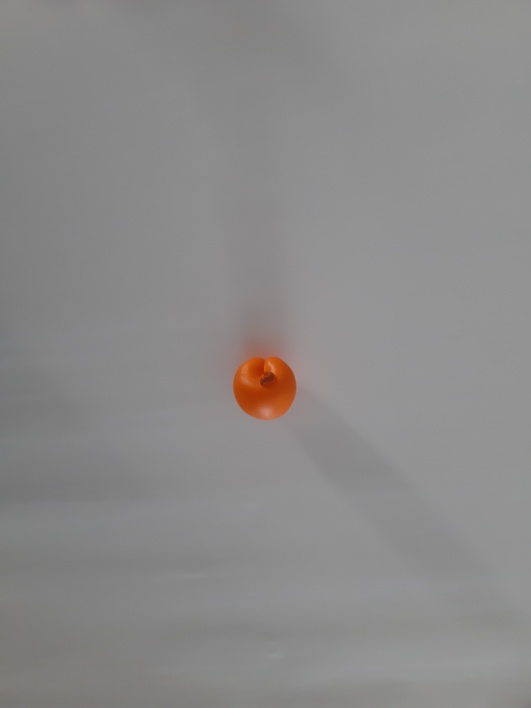apricot: (217, 338, 320, 439)
